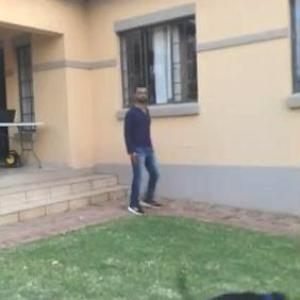follow: (121, 79, 163, 217)
